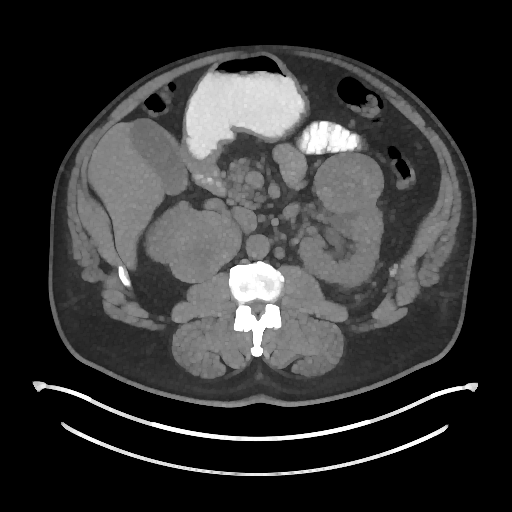Lesion: (312, 150, 383, 215)
